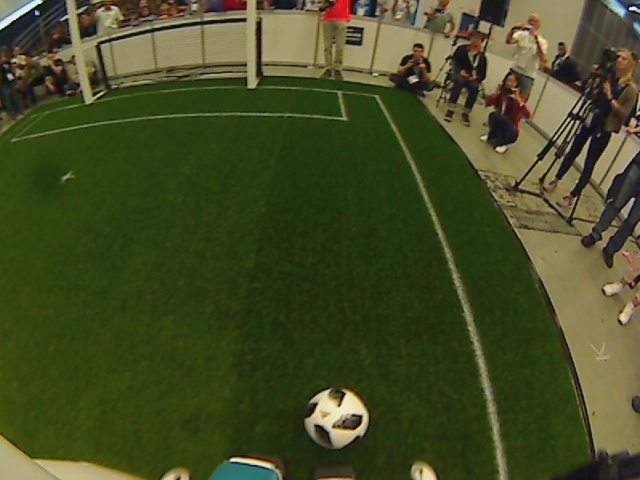ball: (300, 383, 370, 452)
